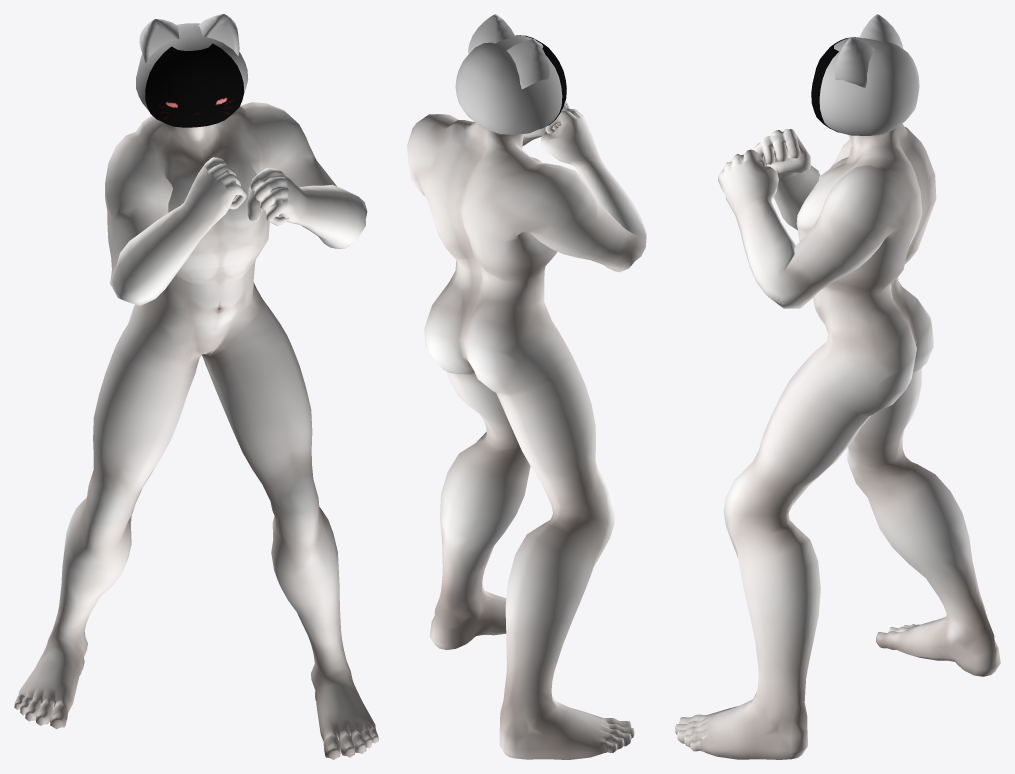
The picture shows the model from 3 angles, left to right: view 1: azimuth 30°, elevation 25°; view 2: azimuth 150°, elevation 25°; view 3: azimuth 270°, elevation 25°; orthographic projection. The views are drawn at different scales.
Parts seen in each view (by area): view 1: Muscle_Body, ______?001, Cat_Head; view 2: Muscle_Body, Cat_Head, ______?001; view 3: Muscle_Body, Cat_Head, ______?001.
Part boxes in pixels (left/top/right/bottom): Muscle_Body: left=14, top=102, right=378, bottom=759; ______?001: left=145, top=43, right=244, bottom=127; Cat_Head: left=136, top=14, right=248, bottom=111; Muscle_Body: left=407, top=100, right=646, bottom=759; Cat_Head: left=455, top=14, right=562, bottom=134; ______?001: left=516, top=35, right=566, bottom=128; Muscle_Body: left=675, top=123, right=1000, bottom=759; Cat_Head: left=819, top=14, right=919, bottom=135; ______?001: left=811, top=37, right=855, bottom=132.
Size of the model in its own units: 11.77 by 28.08 by 12.18.
